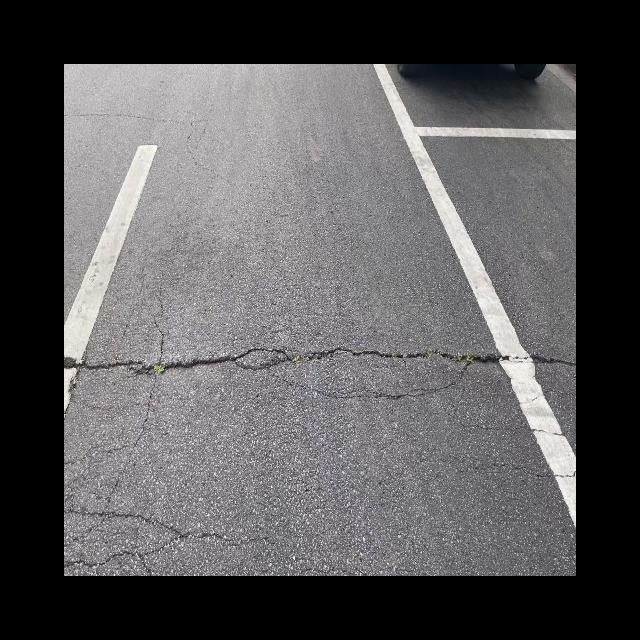retak_memanjang: (64, 313, 576, 397), (93, 279, 176, 503), (64, 497, 284, 573)
